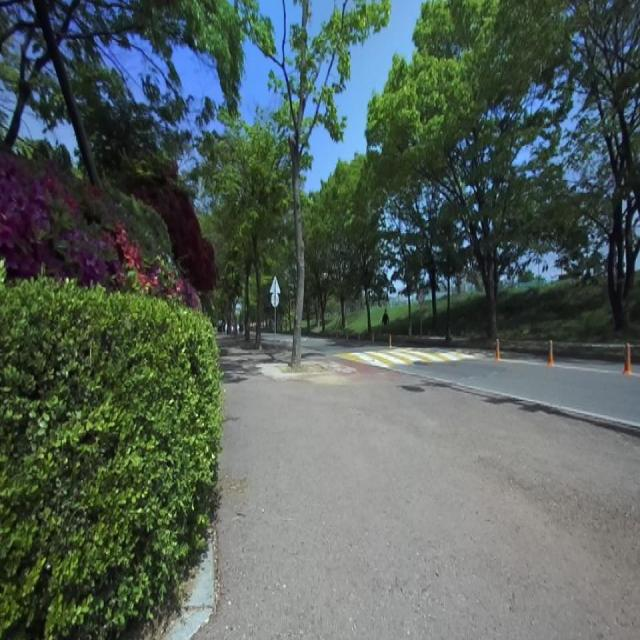sidewalk: (195, 339, 640, 639)
